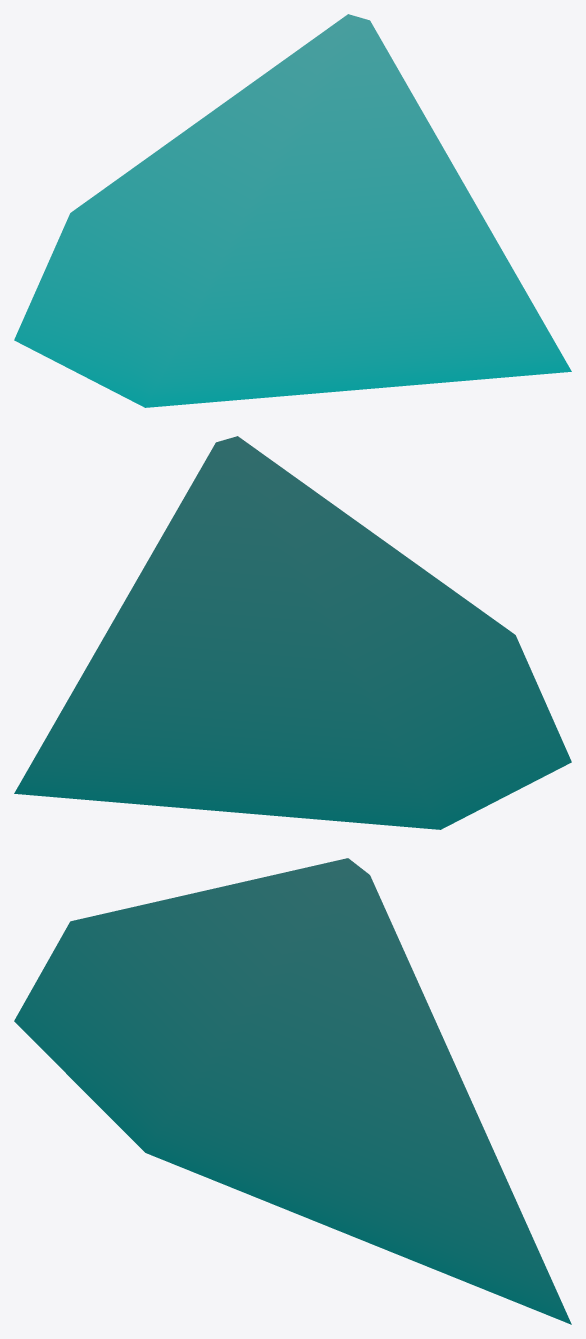
The model's file is Fern_sbslY_High_sbslY_VarE_LOD2.fbx.
3 views of the same model, one above another, from view 1: azimuth 30°, elevation 25°; view 2: azimuth 150°, elevation 25°; view 3: azimuth 330°, elevation 25° (orthographic).
Parts seen in each view (by area): view 1: _4077_VarE_LOD3; view 2: _4077_VarE_LOD3; view 3: _4077_VarE_LOD3.
Part boxes in pixels (x1,y1,x2,y2): _4077_VarE_LOD3: (14, 14, 571, 407); _4077_VarE_LOD3: (14, 436, 571, 829); _4077_VarE_LOD3: (14, 858, 571, 1324).
Size of the model in its own units: 140 by 98.63 by 0.
